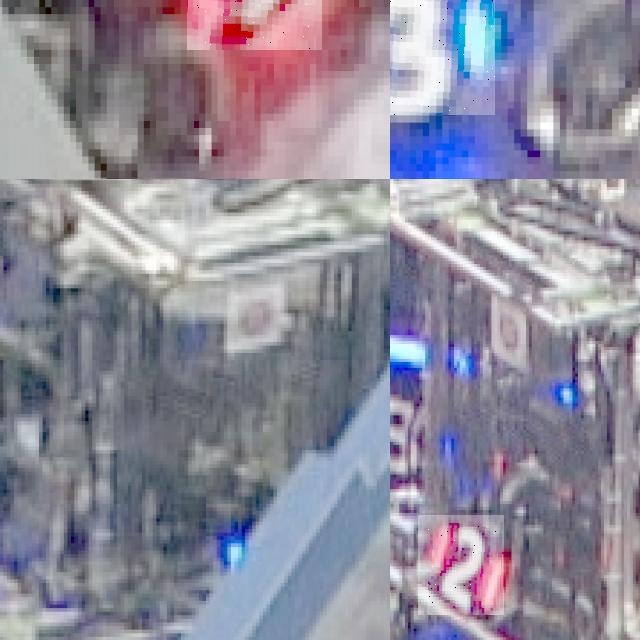B3: (390, 0, 494, 115), (390, 397, 460, 483)
R2: (418, 515, 504, 615)
R3: (186, 0, 322, 50)
